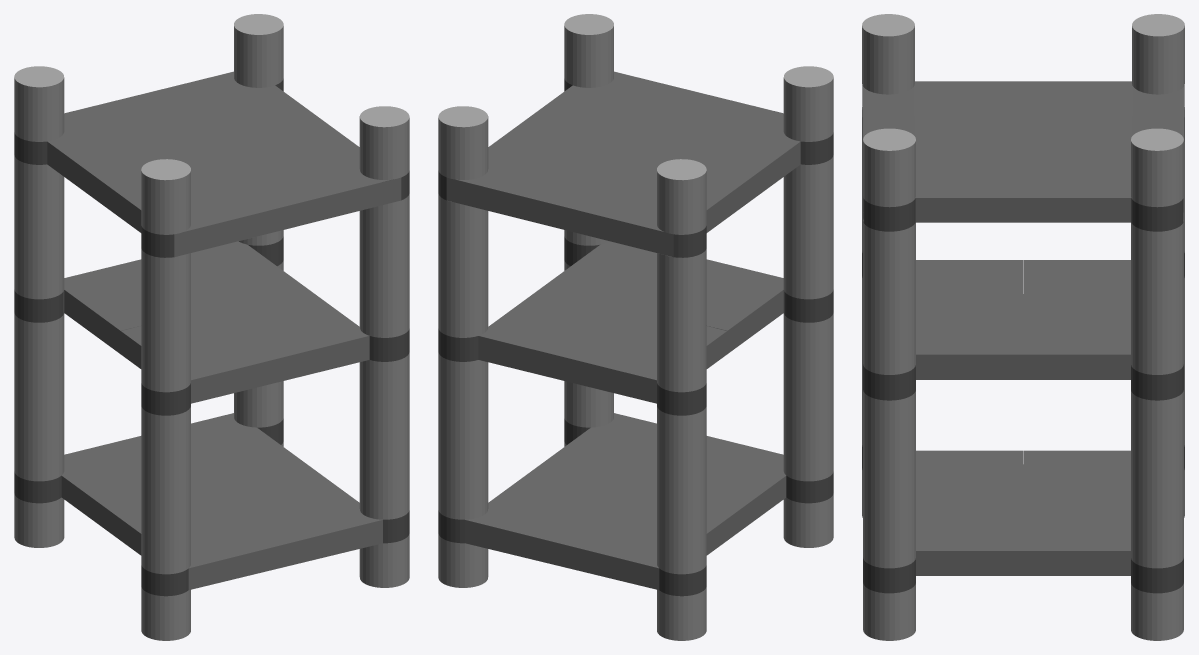
File: repisa 3.fbx
3 renders of one model, left to right at view 1: azimuth 30°, elevation 25°; view 2: azimuth 150°, elevation 25°; view 3: azimuth 270°, elevation 25°, orthographic. The views are drawn at different scales.
Visible parts, largest first — view 1: Cilindro; view 2: Cilindro; view 3: Cilindro.
Part boxes in pixels (bbox=[...]): Cilindro: bbox=[14, 14, 409, 640]; Cilindro: bbox=[438, 14, 833, 640]; Cilindro: bbox=[862, 14, 1184, 640].
Size of the model in its own units: 1214 by 2043 by 1218.
Materials: 1 (1 with a texture image).
